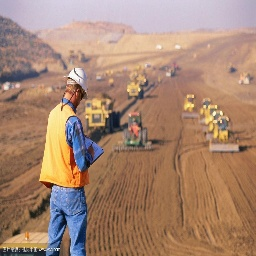helmet: (66, 66, 88, 91)
person: (40, 60, 102, 256)
vest: (40, 101, 89, 189)
